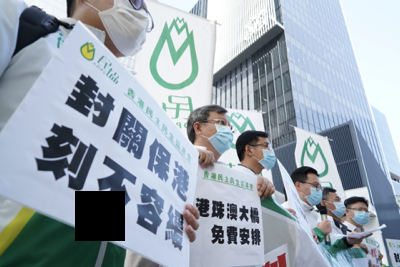with_mask: (98, 1, 150, 58), (205, 115, 235, 155), (255, 141, 278, 171), (303, 180, 325, 207), (351, 204, 372, 226), (329, 195, 347, 218)
